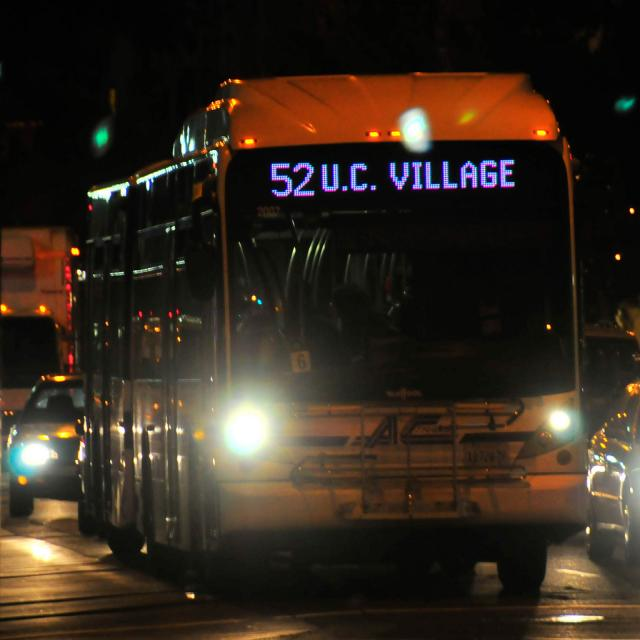Bus: (98, 74, 604, 623)
car: (0, 210, 84, 454), (584, 365, 640, 628), (0, 367, 99, 515)
